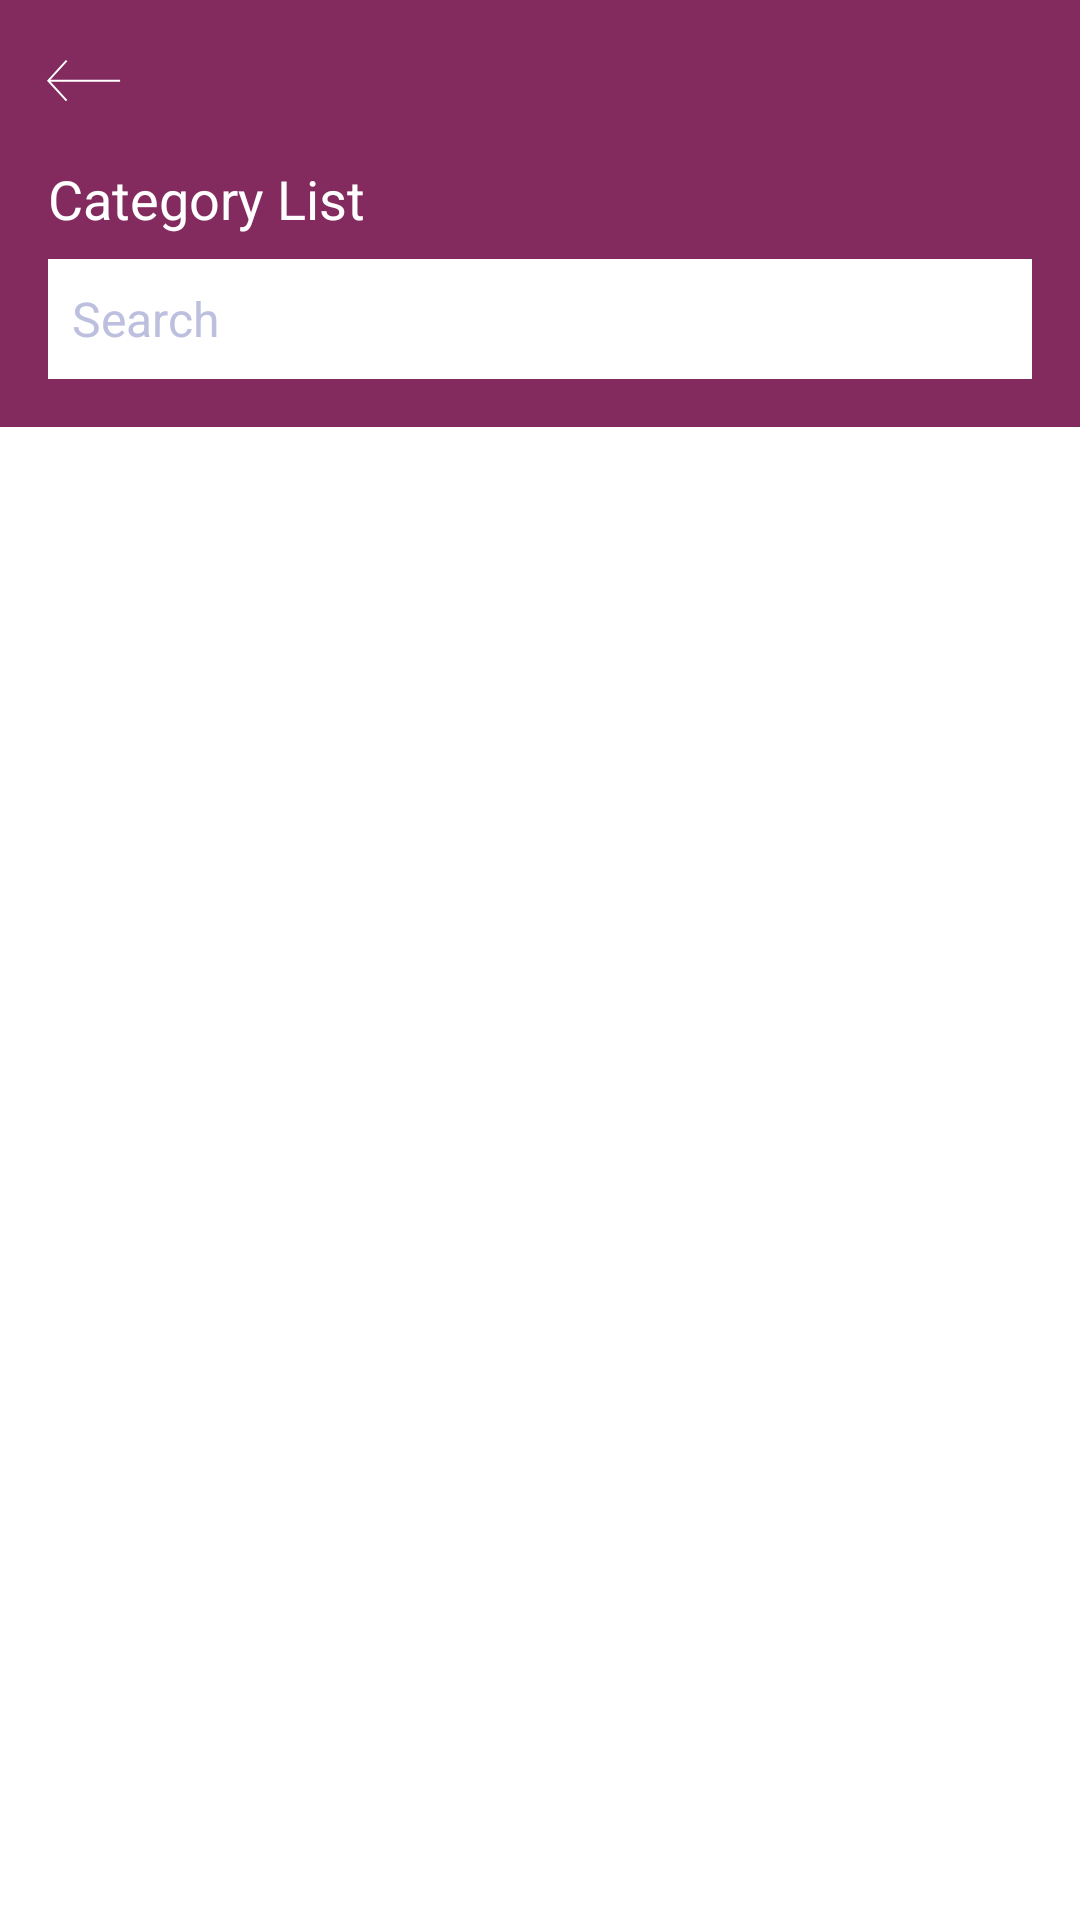

Named icons in this screenshot (1080px x 1920px) and their bounding boxes, (x1, y1, x2, y2):
arrow back: (47, 60, 120, 101)
